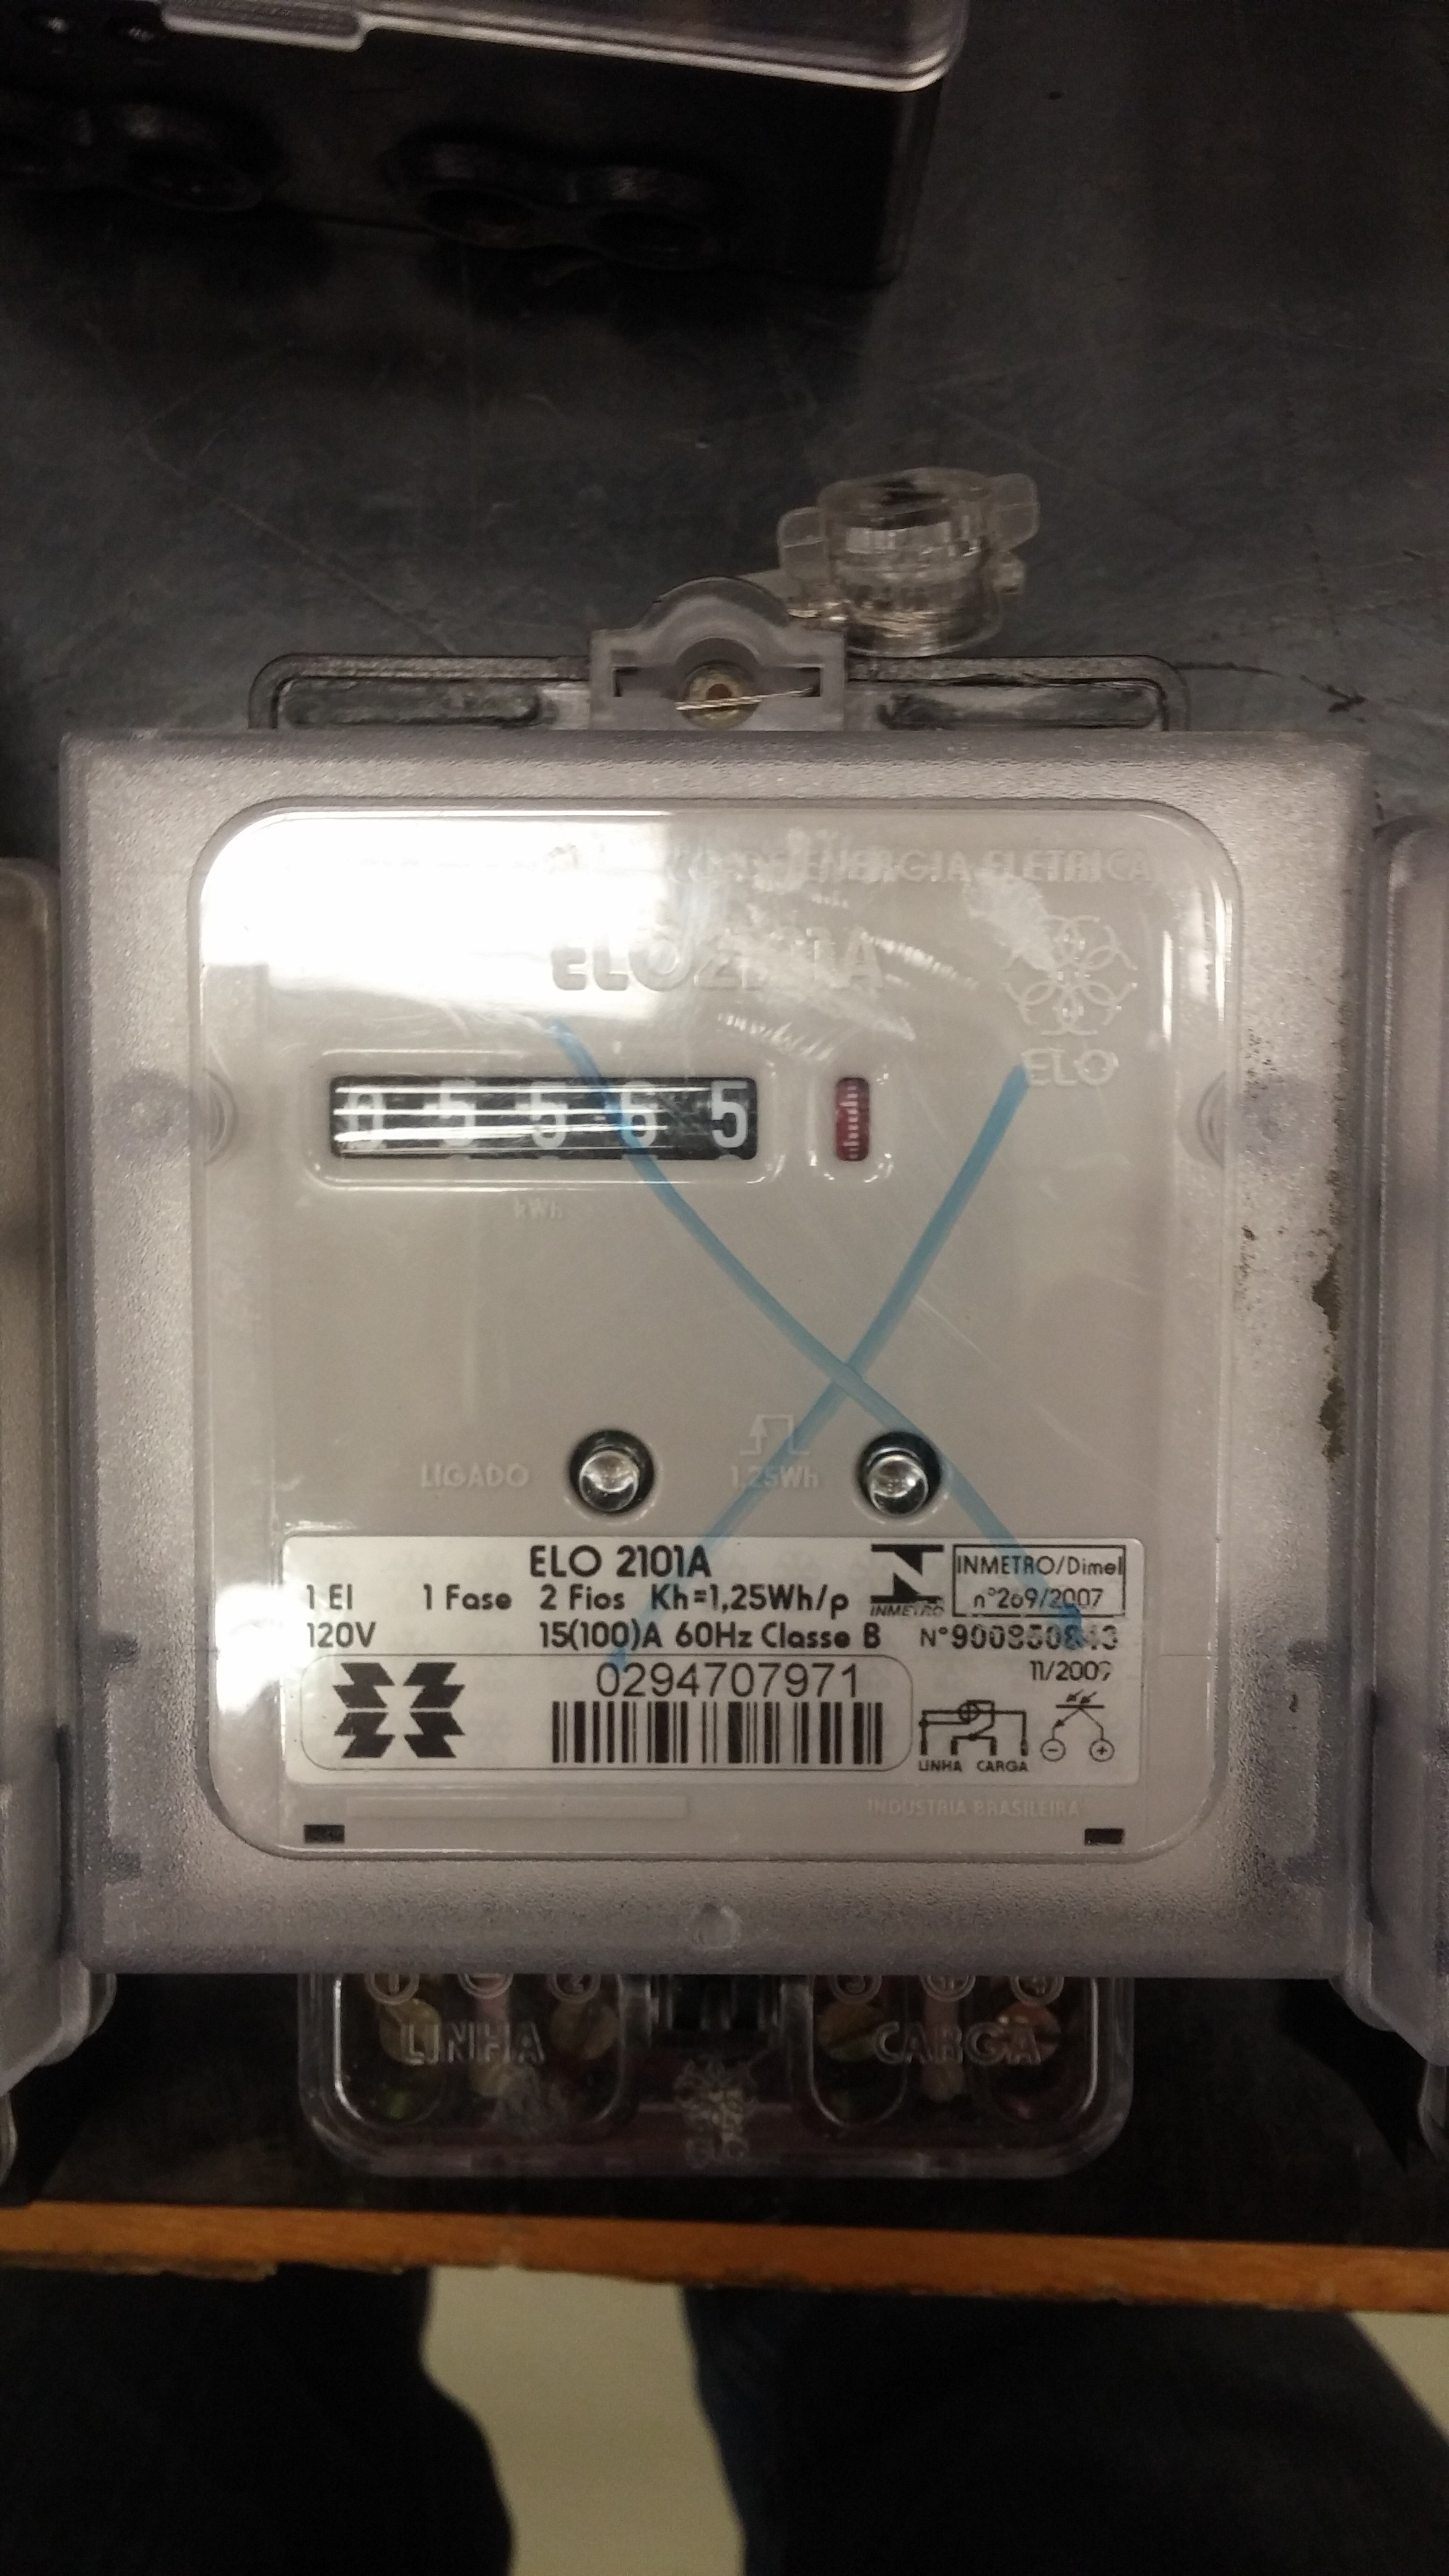counter2: (304, 1053, 782, 1205)
